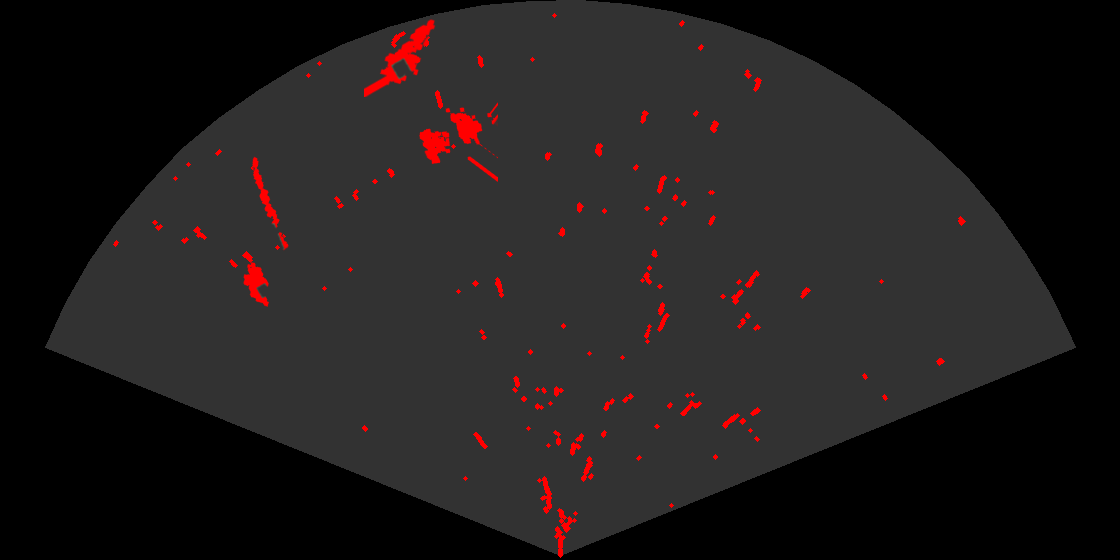AUV: (242, 261, 271, 308)
cage: (418, 101, 498, 183)
chain: (251, 155, 290, 252)
frogman: (364, 17, 437, 97)
